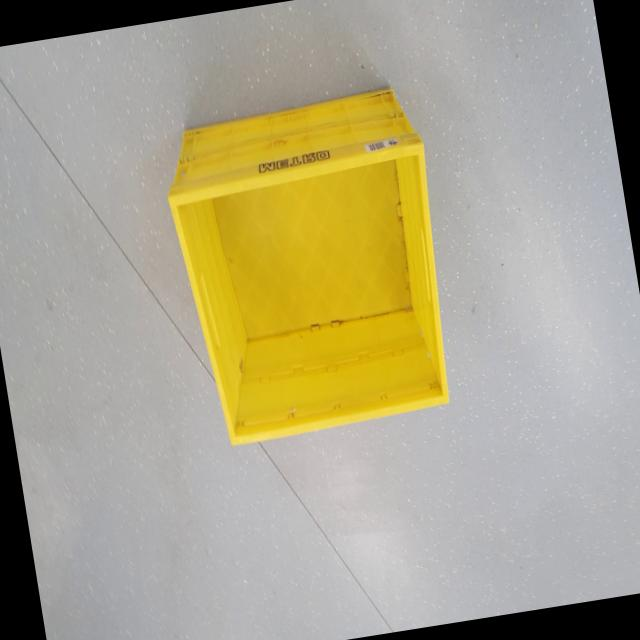box: (144, 69, 472, 462)
